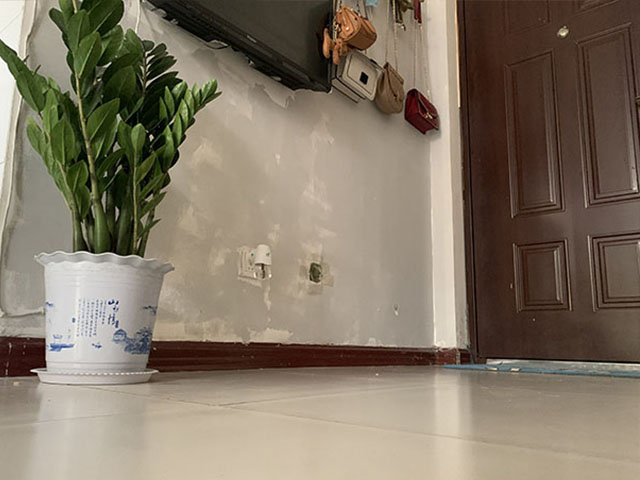carpet: (445, 360, 640, 378)
